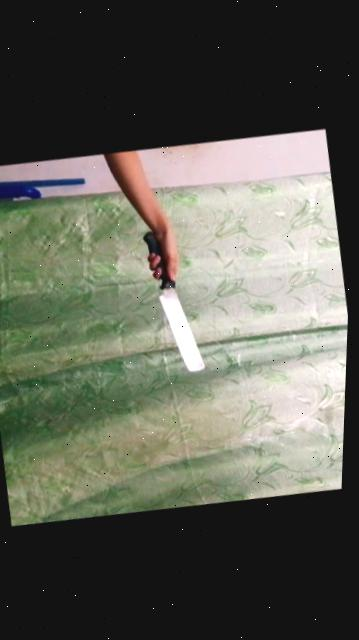long knife: (129, 215, 222, 382)
